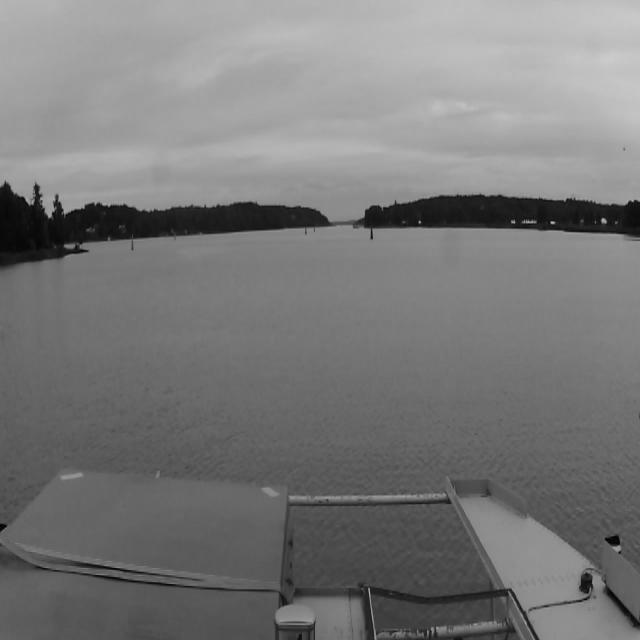buoy: (368, 221, 374, 242), (130, 234, 134, 252), (303, 222, 307, 238), (173, 231, 176, 240), (313, 224, 315, 232)
